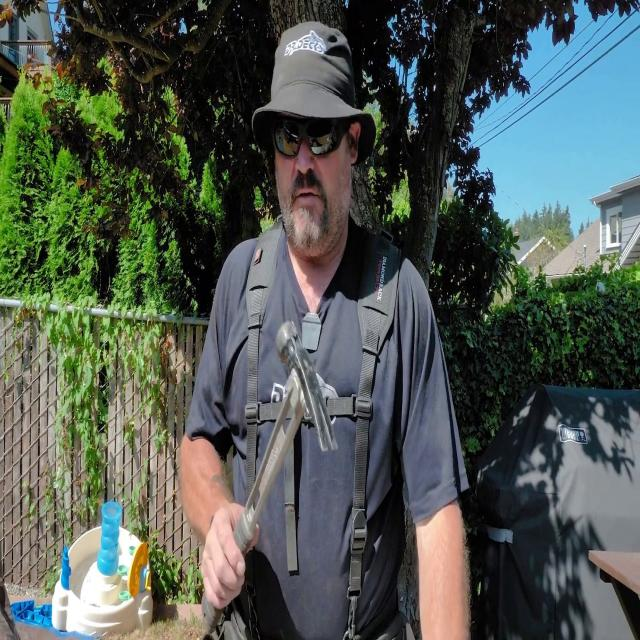hammer: (202, 322, 338, 632)
